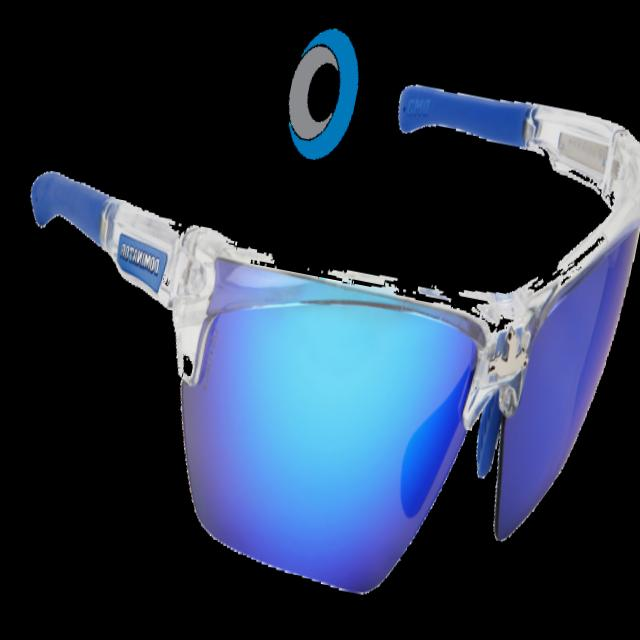goggles: (5, 0, 640, 607)
